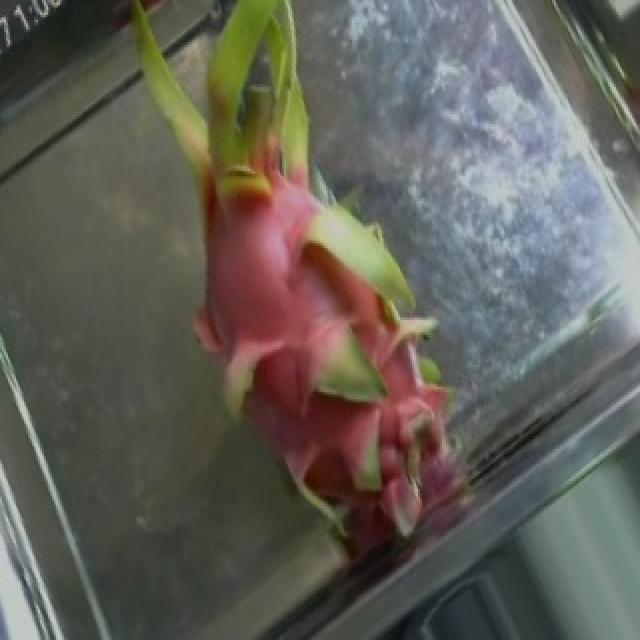fruit: (134, 188, 550, 638), (28, 5, 440, 439)
